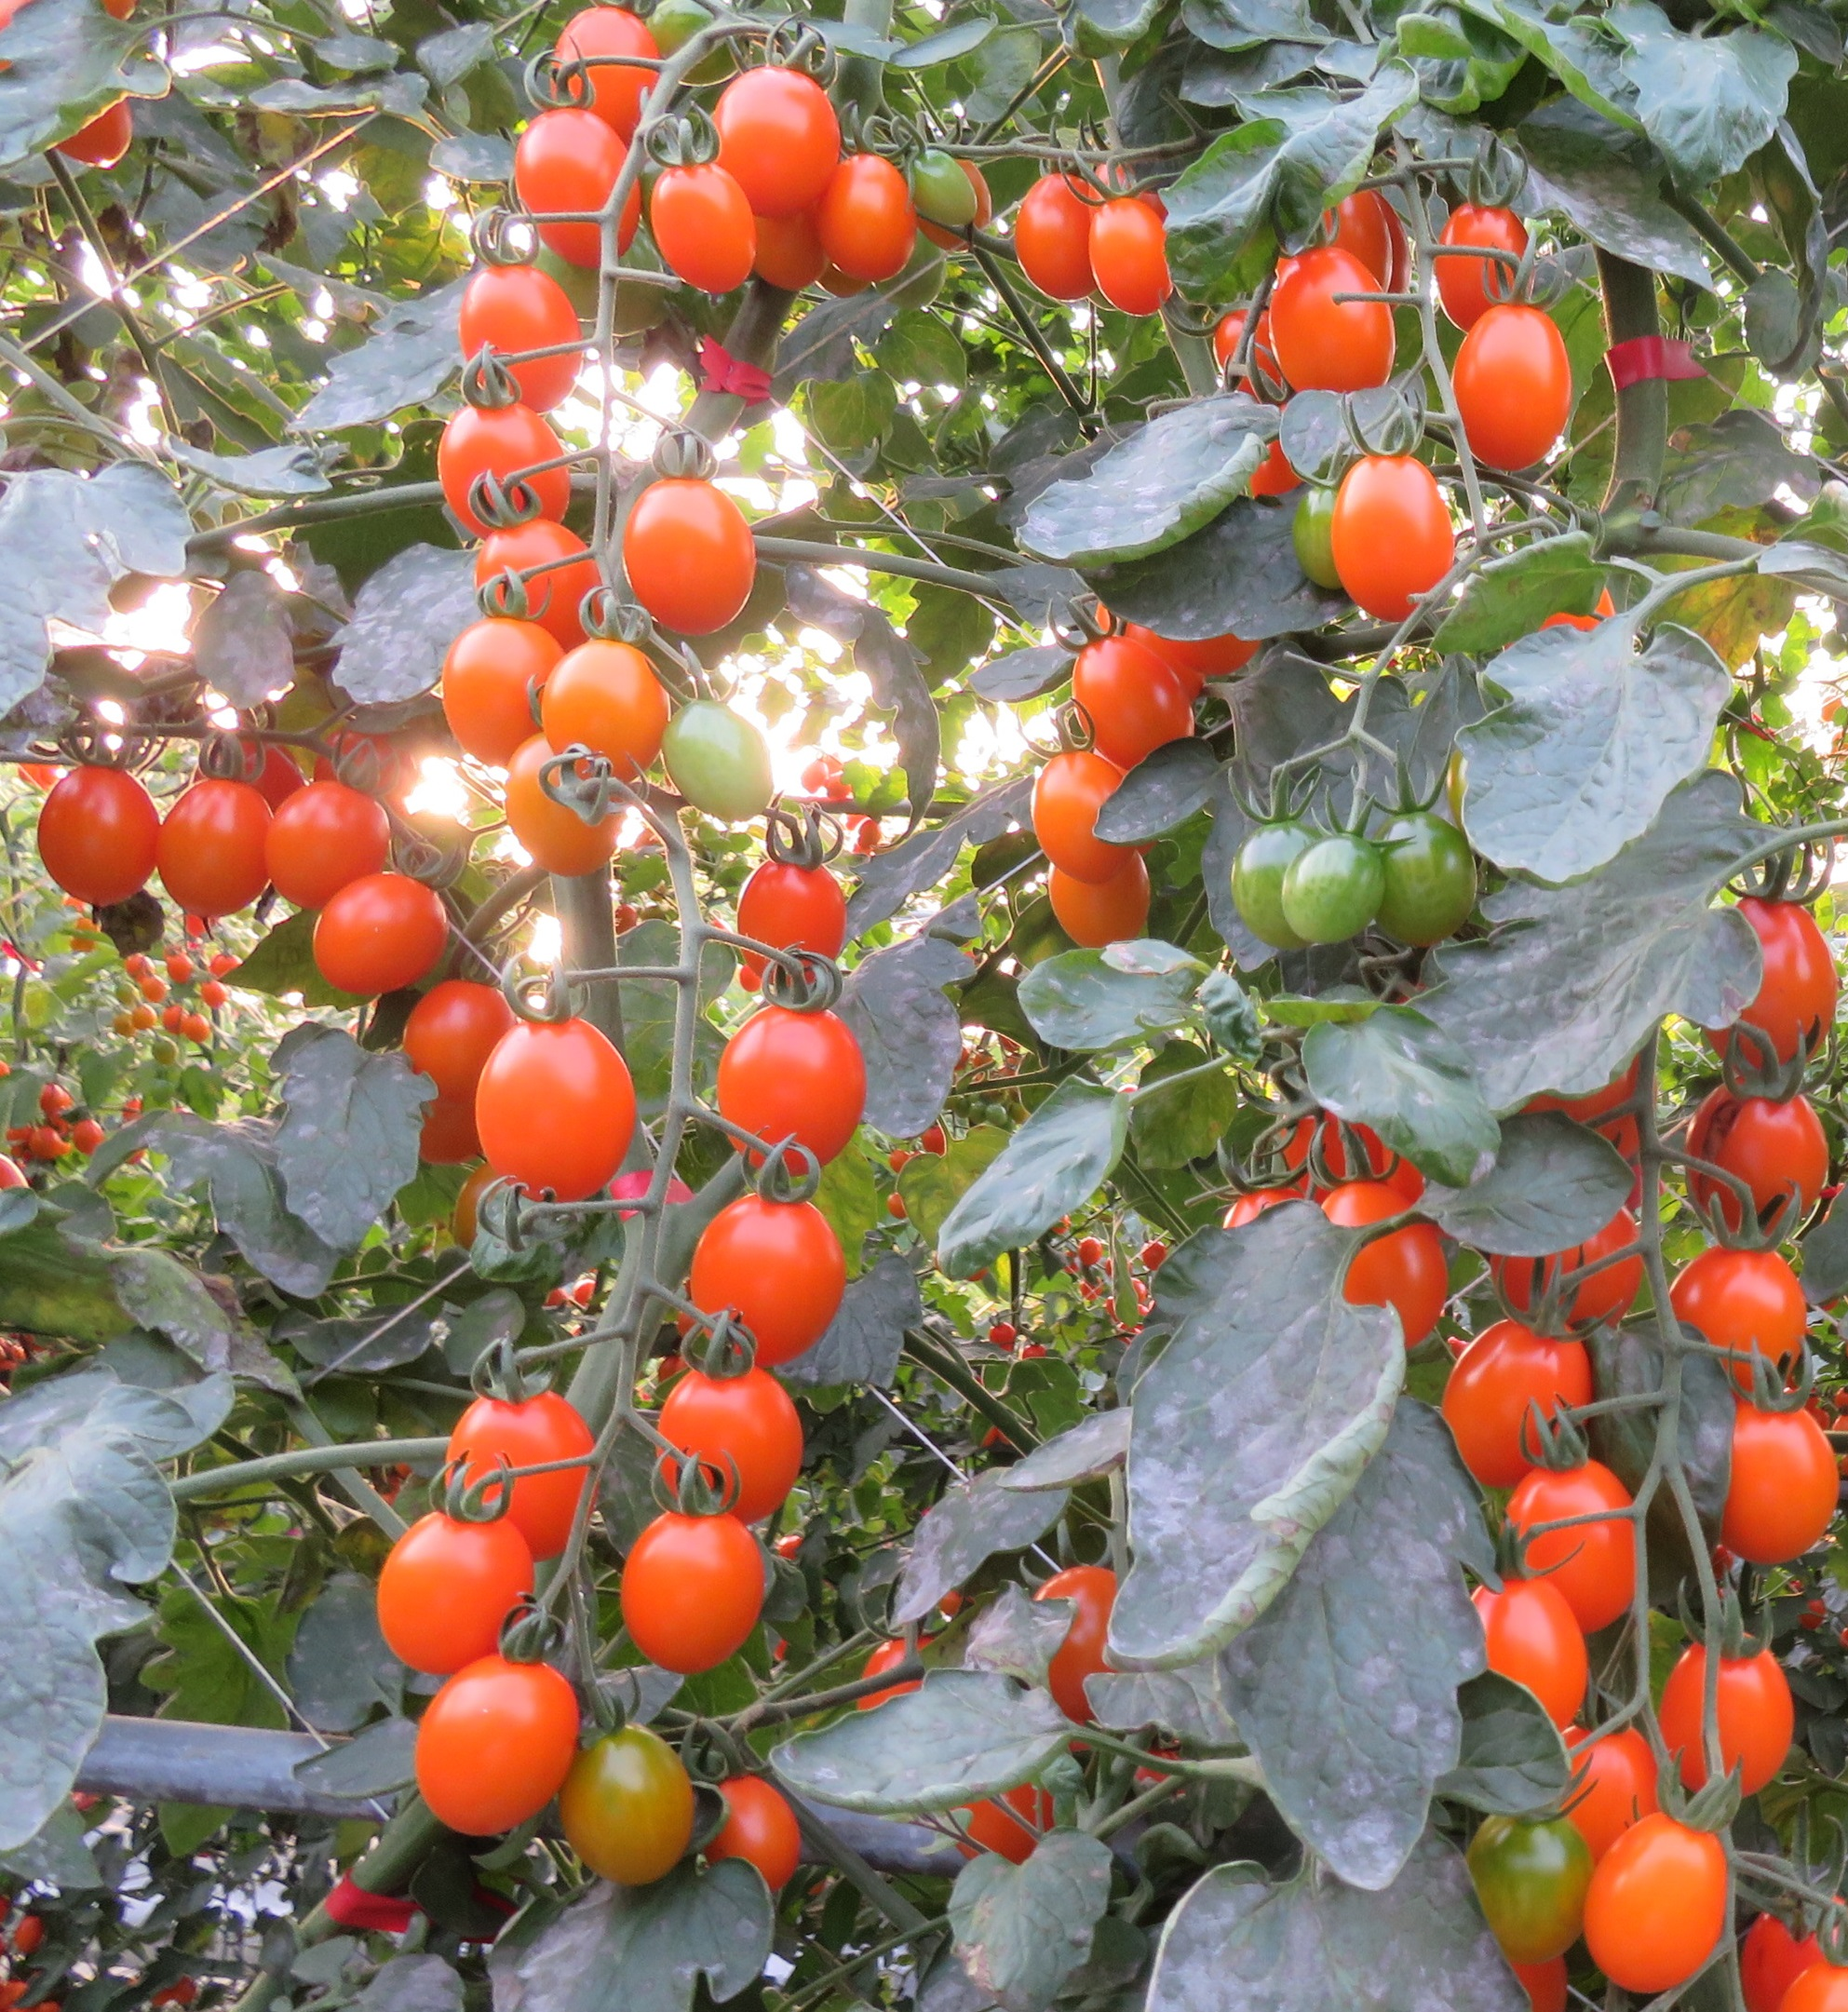green: (559, 1718, 701, 1900), (1471, 1819, 1601, 1965), (662, 699, 779, 829), (1380, 811, 1473, 946), (1282, 843, 1386, 952), (1228, 818, 1287, 955), (906, 138, 988, 226), (988, 1106, 1011, 1130), (948, 1095, 965, 1120)
orange: (398, 1656, 590, 1840), (473, 1008, 636, 1201), (373, 1511, 555, 1683), (1583, 1812, 1734, 2000), (1676, 1071, 1832, 1250), (687, 1199, 848, 1364), (613, 473, 764, 643), (1442, 1320, 1596, 1484), (718, 1001, 867, 1167), (1501, 1465, 1645, 1637), (445, 1402, 601, 1560), (1652, 1647, 1797, 1812), (1703, 894, 1837, 1069), (699, 65, 855, 214), (625, 1513, 776, 1665), (1466, 1560, 1585, 1751), (1711, 1392, 1837, 1569), (1324, 1181, 1454, 1351), (659, 1372, 818, 1509), (501, 733, 634, 896), (510, 112, 645, 270), (1330, 456, 1454, 622), (1268, 242, 1398, 400), (438, 393, 580, 536), (1664, 1248, 1808, 1386), (1445, 308, 1566, 471), (1491, 1201, 1645, 1327), (455, 259, 580, 410), (541, 640, 673, 778), (720, 854, 862, 981), (37, 766, 159, 913), (1074, 641, 1202, 782), (268, 768, 389, 908), (648, 149, 765, 293), (159, 752, 263, 913), (1030, 1569, 1135, 1726), (464, 517, 604, 633), (398, 967, 513, 1099), (315, 875, 440, 995), (552, 14, 678, 130), (450, 619, 552, 759), (1035, 752, 1149, 876), (818, 151, 913, 289), (1016, 170, 1102, 321), (711, 1777, 818, 1898), (1035, 855, 1161, 957), (1435, 202, 1531, 329), (1091, 200, 1175, 324), (1319, 177, 1396, 293), (855, 1630, 949, 1704), (68, 1116, 107, 1151), (42, 1088, 75, 1123), (1076, 1239, 1111, 1271), (177, 1017, 205, 1052), (126, 1006, 158, 1034), (126, 952, 154, 983), (881, 1190, 907, 1223), (198, 976, 224, 1006), (920, 1127, 946, 1157), (144, 976, 170, 1004), (166, 952, 191, 976), (1142, 1244, 1167, 1269), (888, 1150, 913, 1174), (990, 1321, 1018, 1343)
